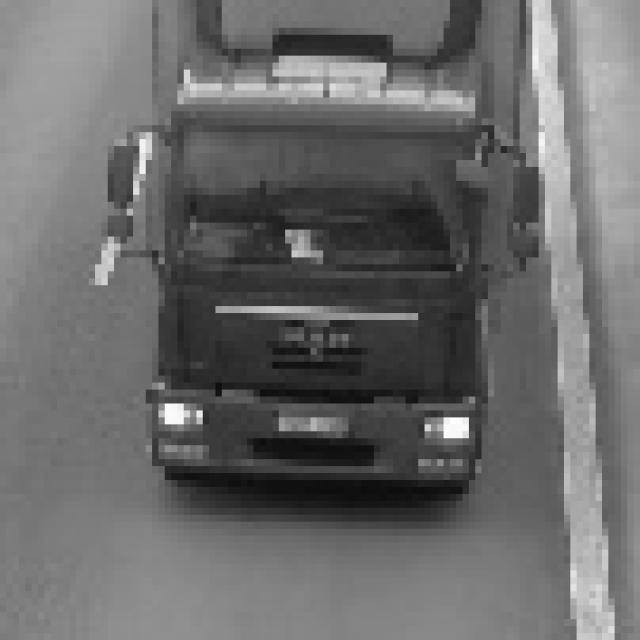truck: (101, 0, 538, 501)
